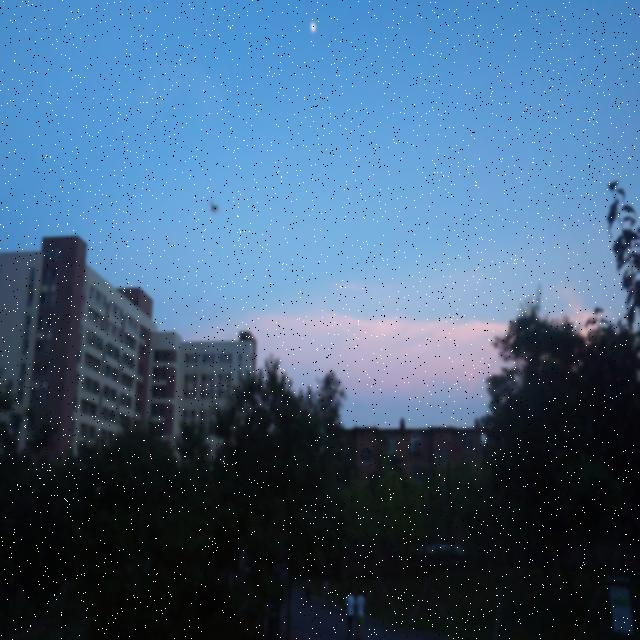UAV: (210, 198, 220, 216)
